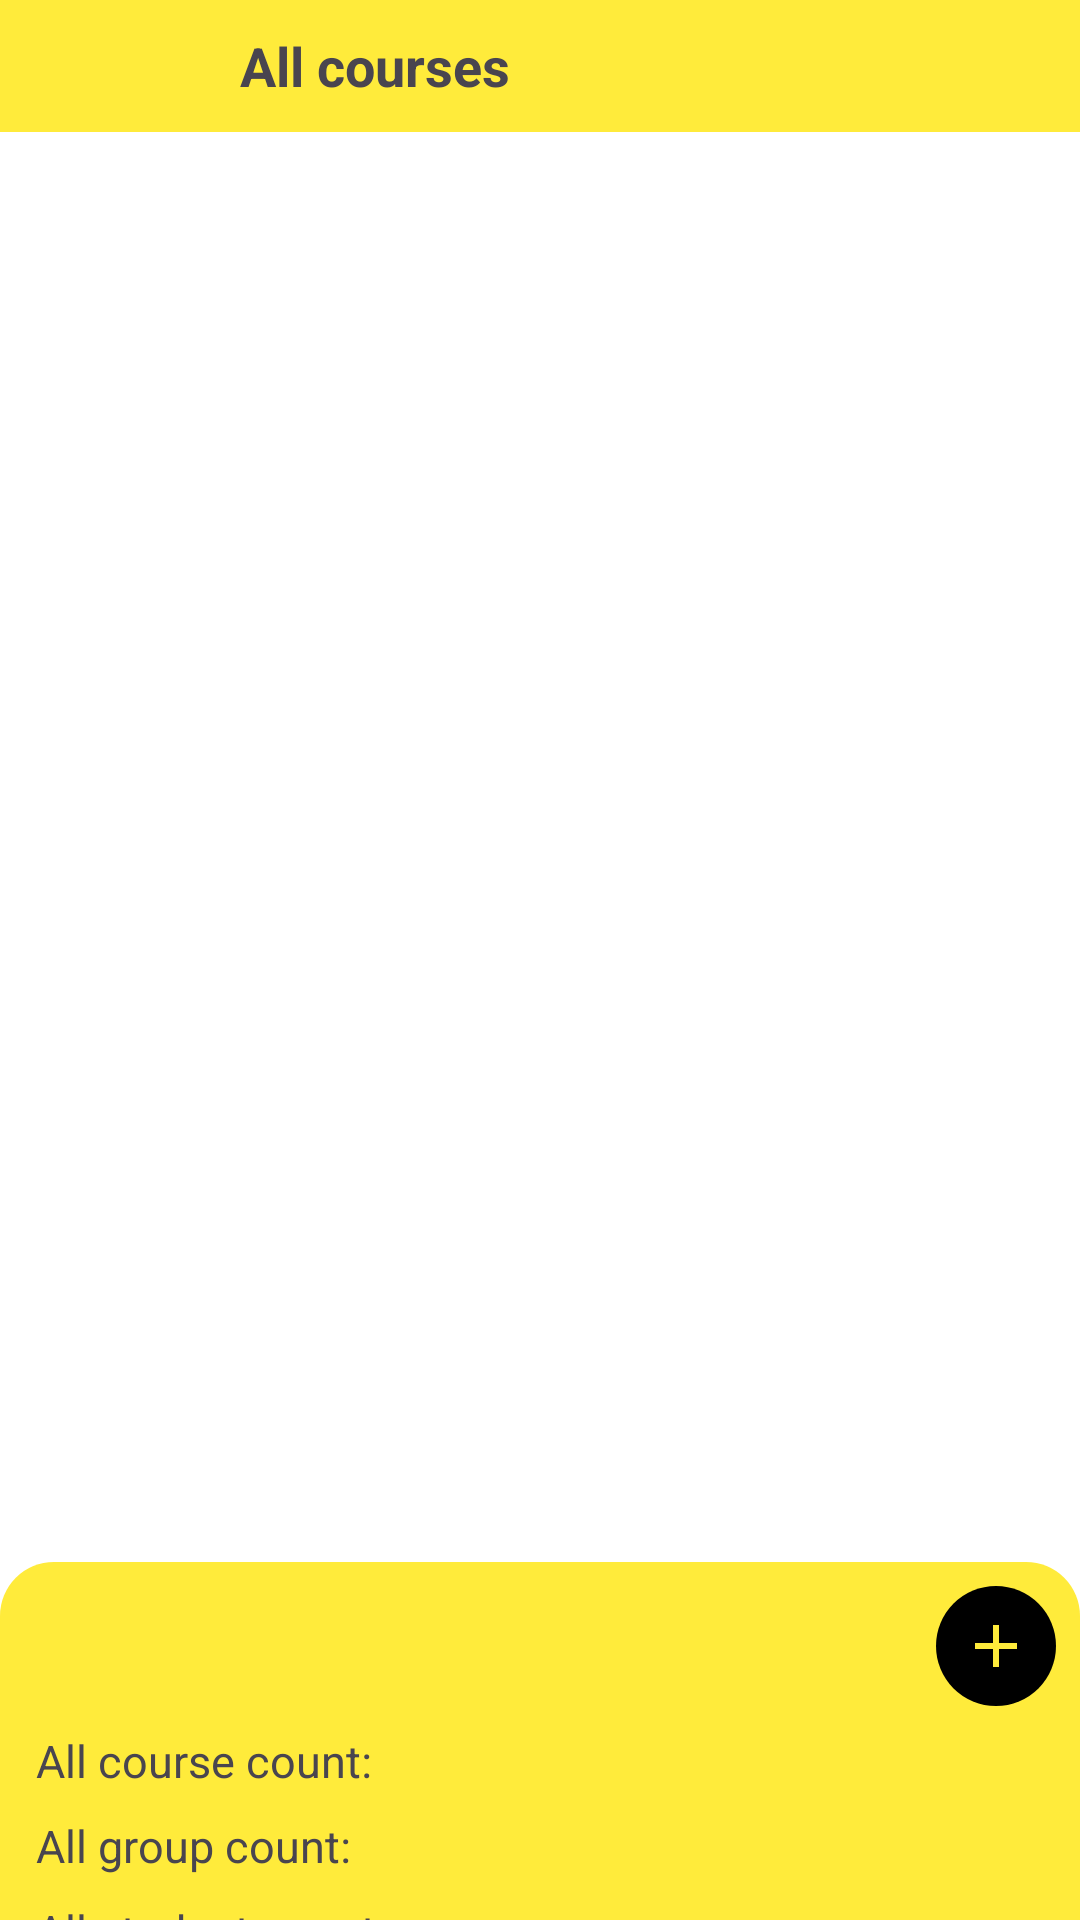

Icons on this 1080x1920 Android screen, each with its box as (x1, y1, x2, y2):
plus: (936, 1586, 1056, 1706)
